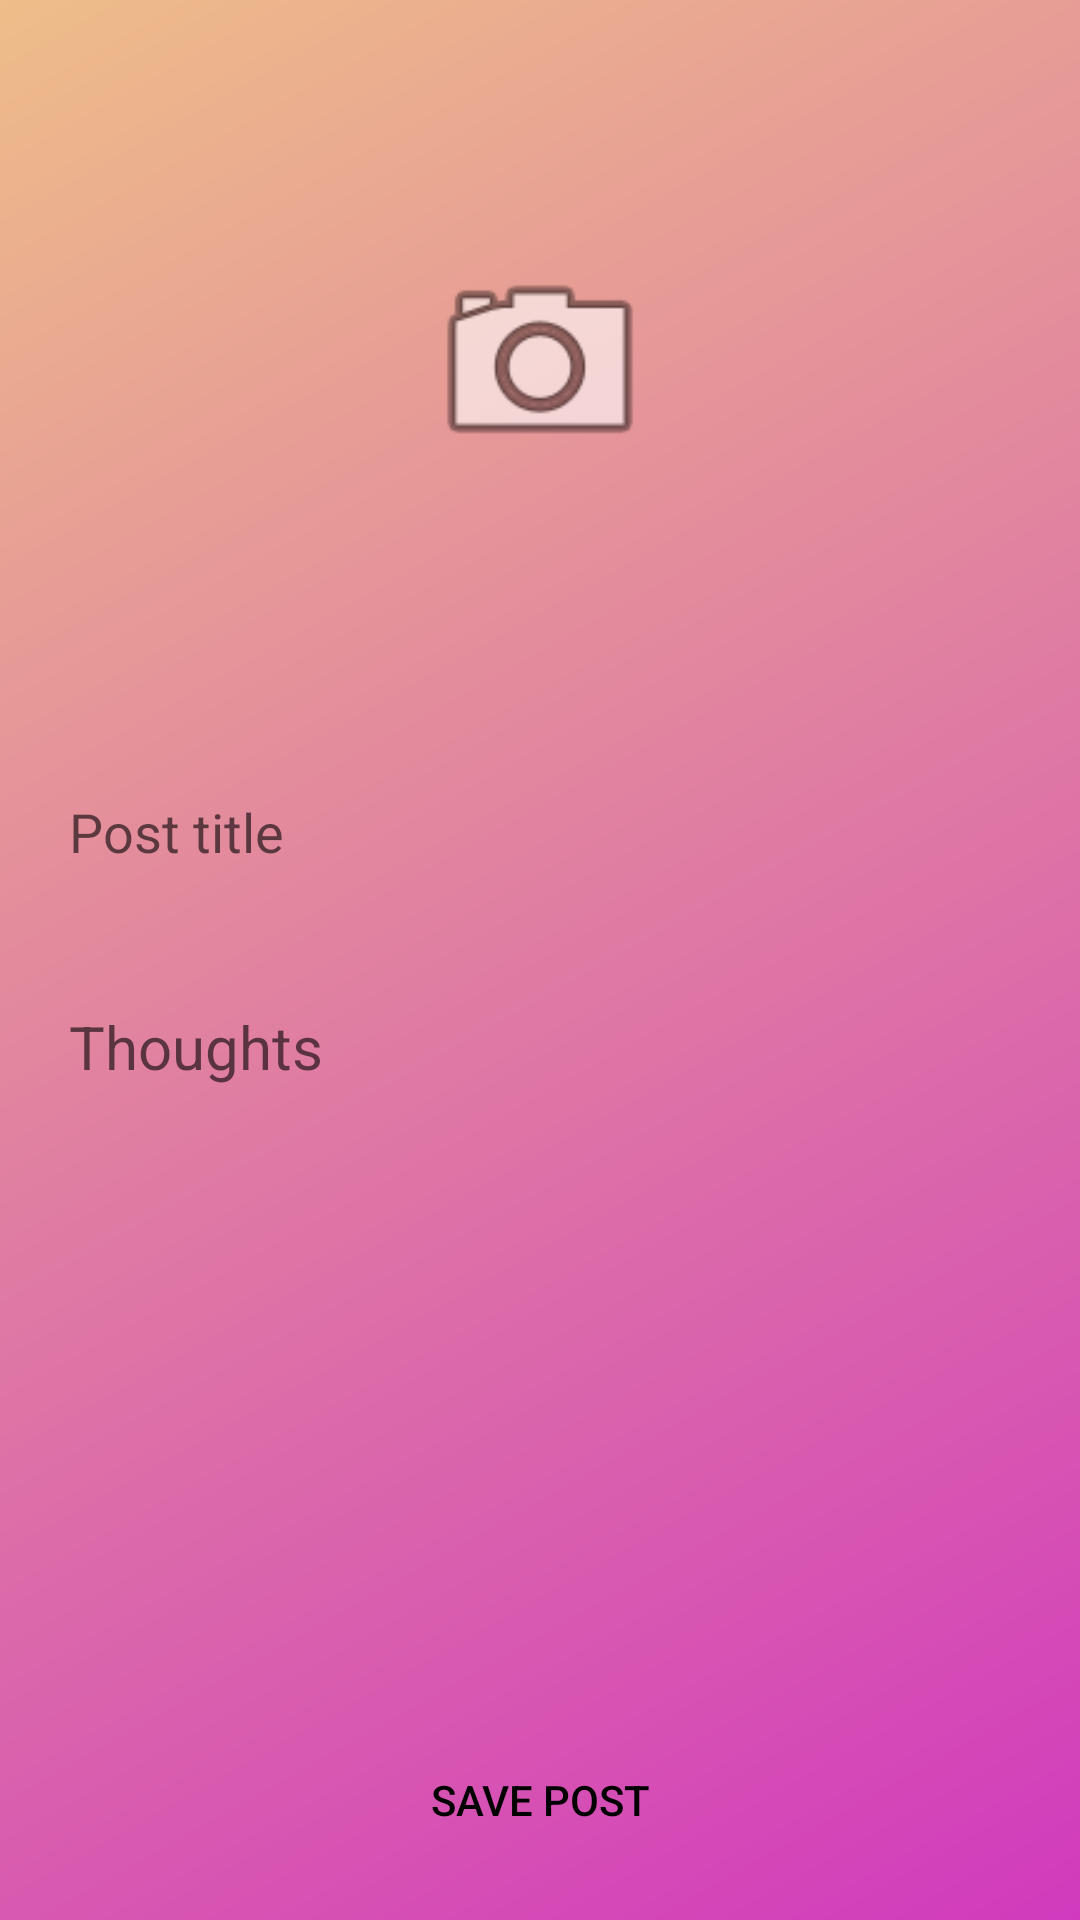

Where icons sit on this 1080 x 1920 app screen, as (x1, y1, x2, y2):
camera: (447, 285, 633, 433)
